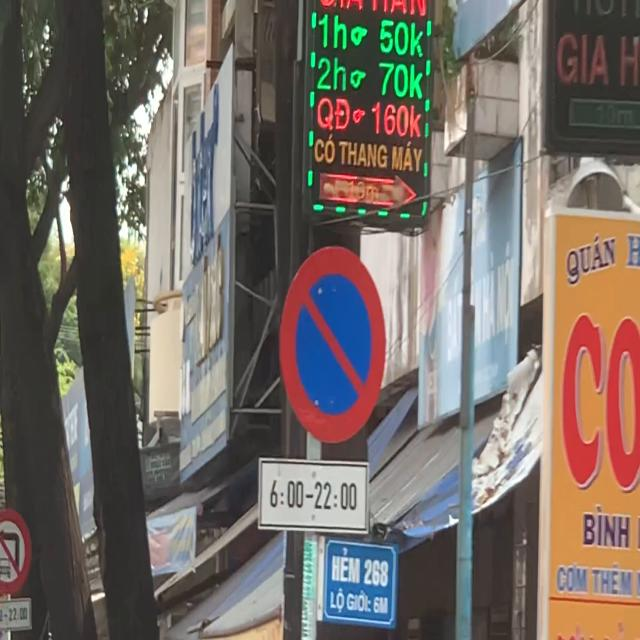Cam do: (280, 240, 387, 442)
